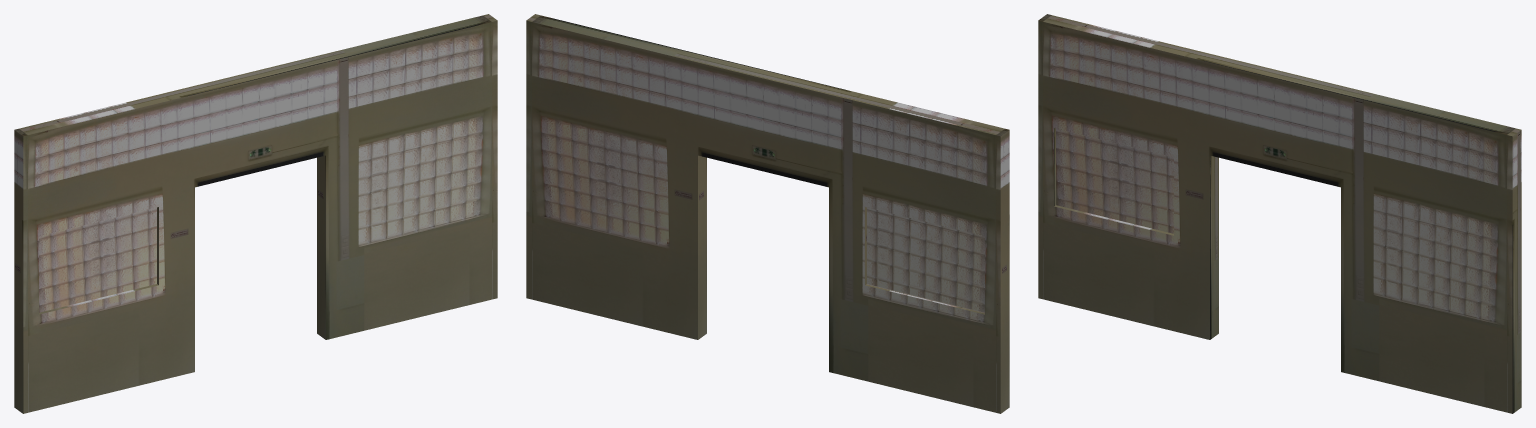
File: building_door2.gltf
The picture shows the model from 3 angles, left to right: view 1: azimuth 30°, elevation 25°; view 2: azimuth 150°, elevation 25°; view 3: azimuth 330°, elevation 25°; orthographic projection.
Visible parts, largest first — view 1: Box029; view 2: Box029; view 3: Box029.
Part boxes in pixels (left/top/right/bottom): Box029: left=14, top=14, right=497, bottom=413; Box029: left=526, top=14, right=1009, bottom=413; Box029: left=1038, top=14, right=1521, bottom=413.
Size of the model in its own units: 6.08 by 3.4 by 0.2.
1 material, 1 textured.
